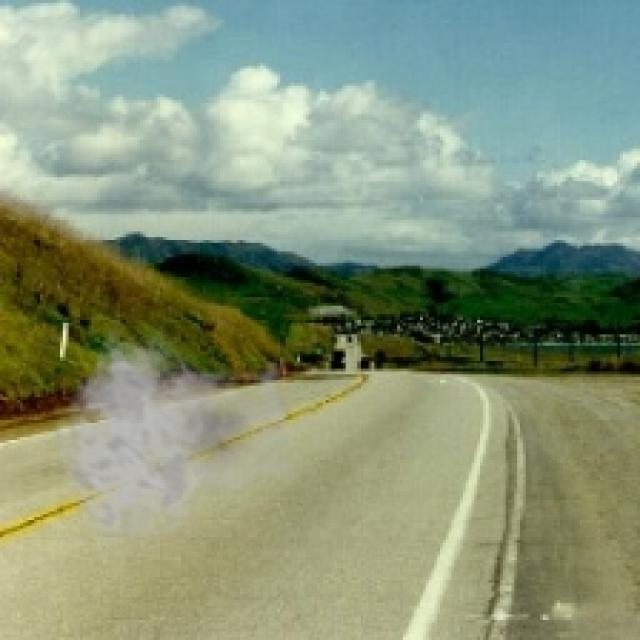smoke: (52, 320, 308, 551)
